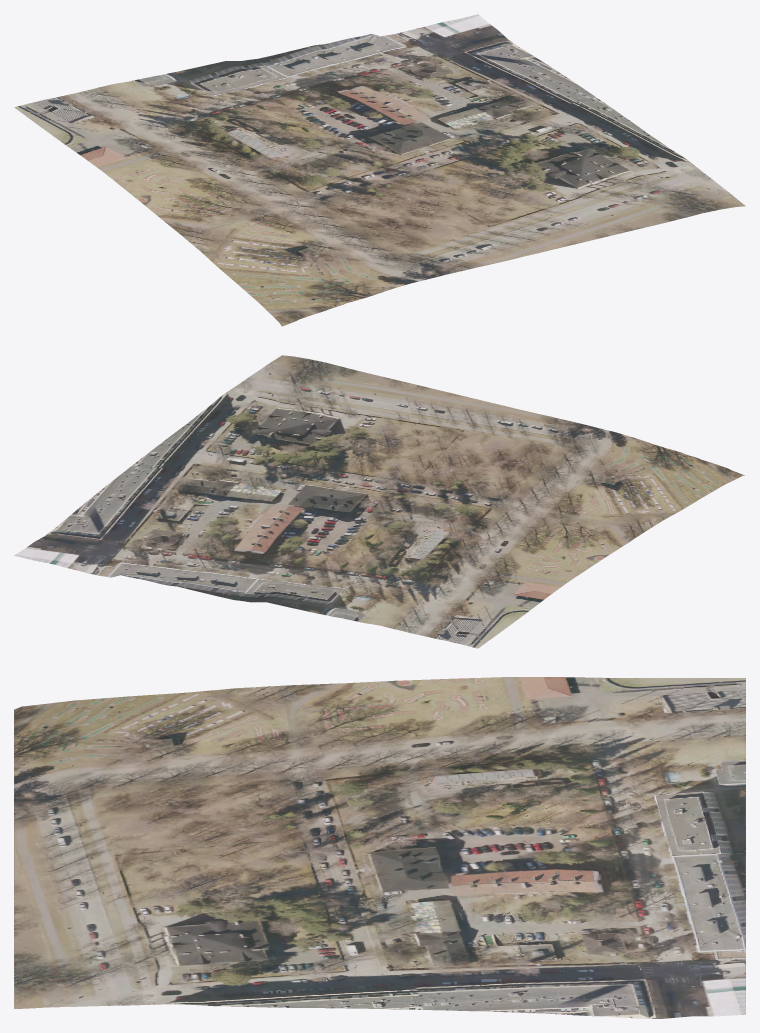
The model's file is CM_Terrain_24486568_6820204.fbx.
The picture shows the model from 3 angles, top to bottom: view 1: azimuth 30°, elevation 25°; view 2: azimuth 150°, elevation 25°; view 3: azimuth 270°, elevation 25°; orthographic projection. The views are drawn at different scales.
Visible parts, largest first — view 1: CM_Terrain_24486568_6820204_LOD0; view 2: CM_Terrain_24486568_6820204_LOD0; view 3: CM_Terrain_24486568_6820204_LOD0.
Boxes of the visible parts, x1,y1,x2,y2 form: CM_Terrain_24486568_6820204_LOD0: (14, 14, 745, 326); CM_Terrain_24486568_6820204_LOD0: (14, 355, 744, 648); CM_Terrain_24486568_6820204_LOD0: (14, 677, 745, 1018).
Size of what is drawn, in the model's own units: 205 by 10.07 by 205.
